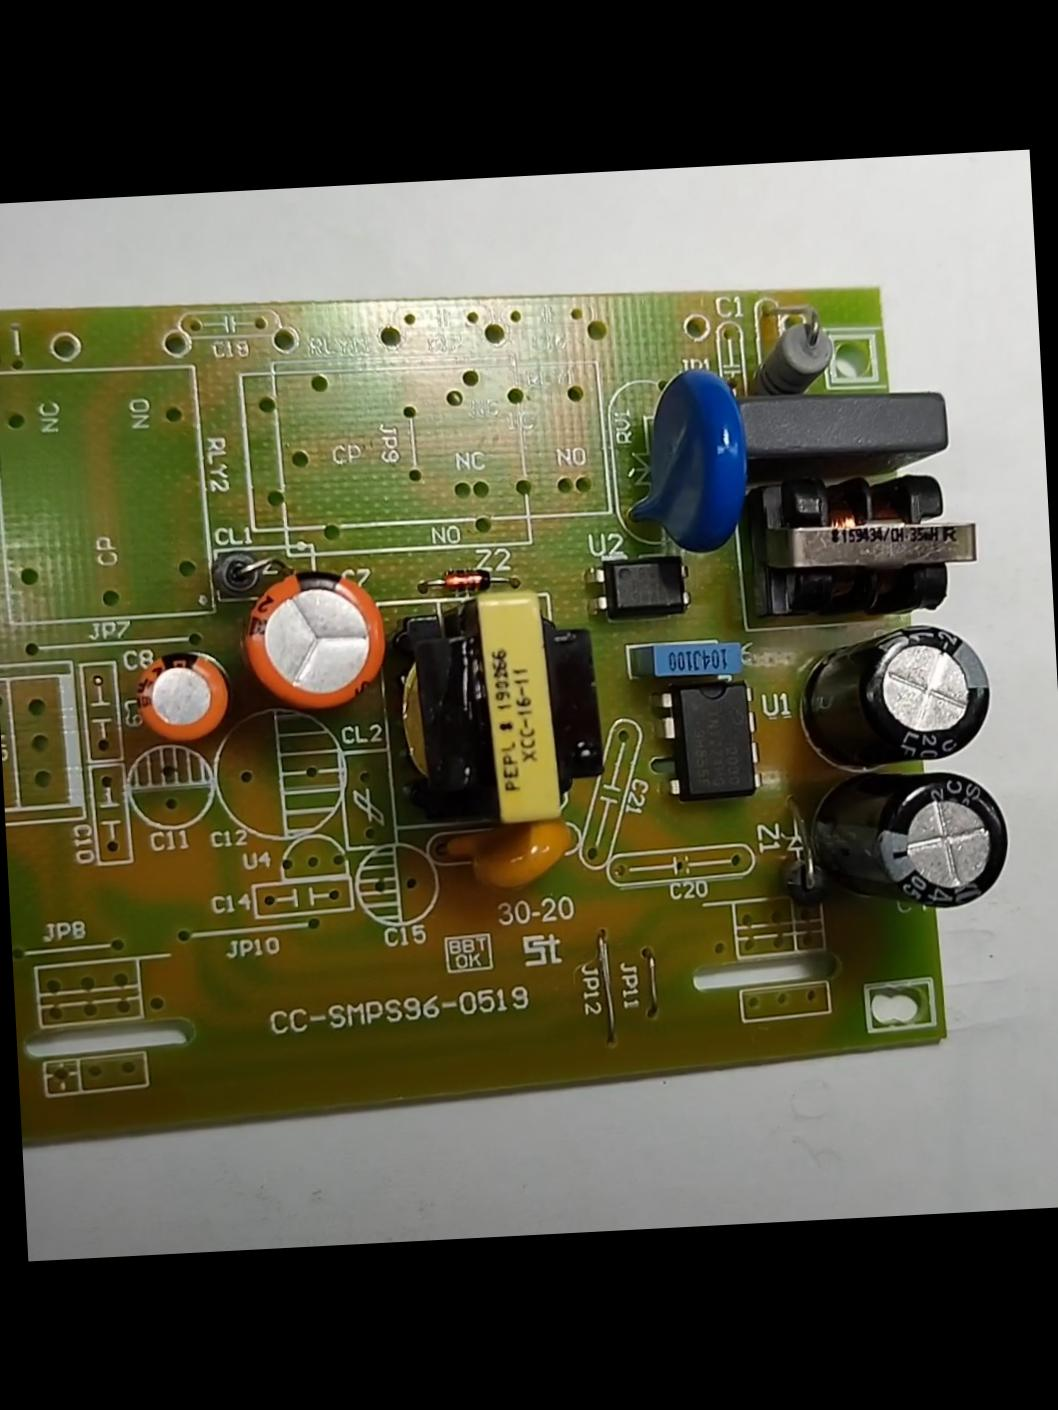Cap1: (231, 563, 392, 713)
Cap2: (133, 650, 231, 746)
Cap3: (796, 623, 994, 771)
Cap4: (806, 764, 1011, 913)
MOSFET: (653, 676, 763, 806)
Mov: (616, 363, 745, 552)
Resistor: (748, 314, 839, 396)
Transformer: (391, 590, 608, 832), (742, 469, 987, 624)
